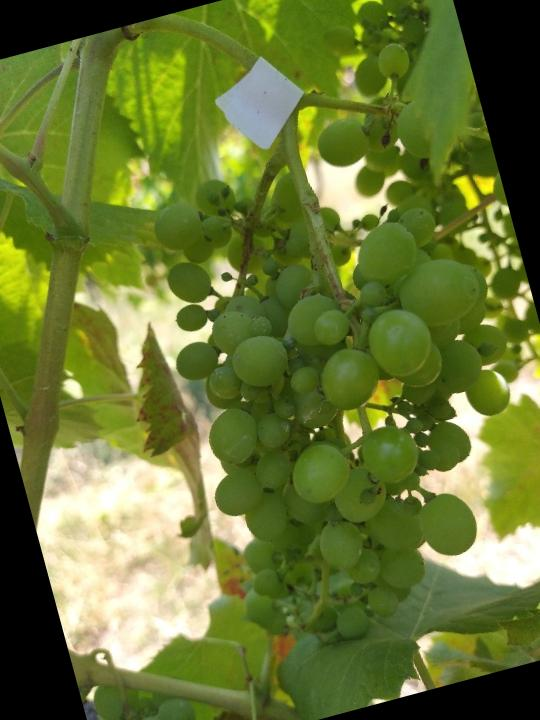grape: (96, 29, 540, 671)
